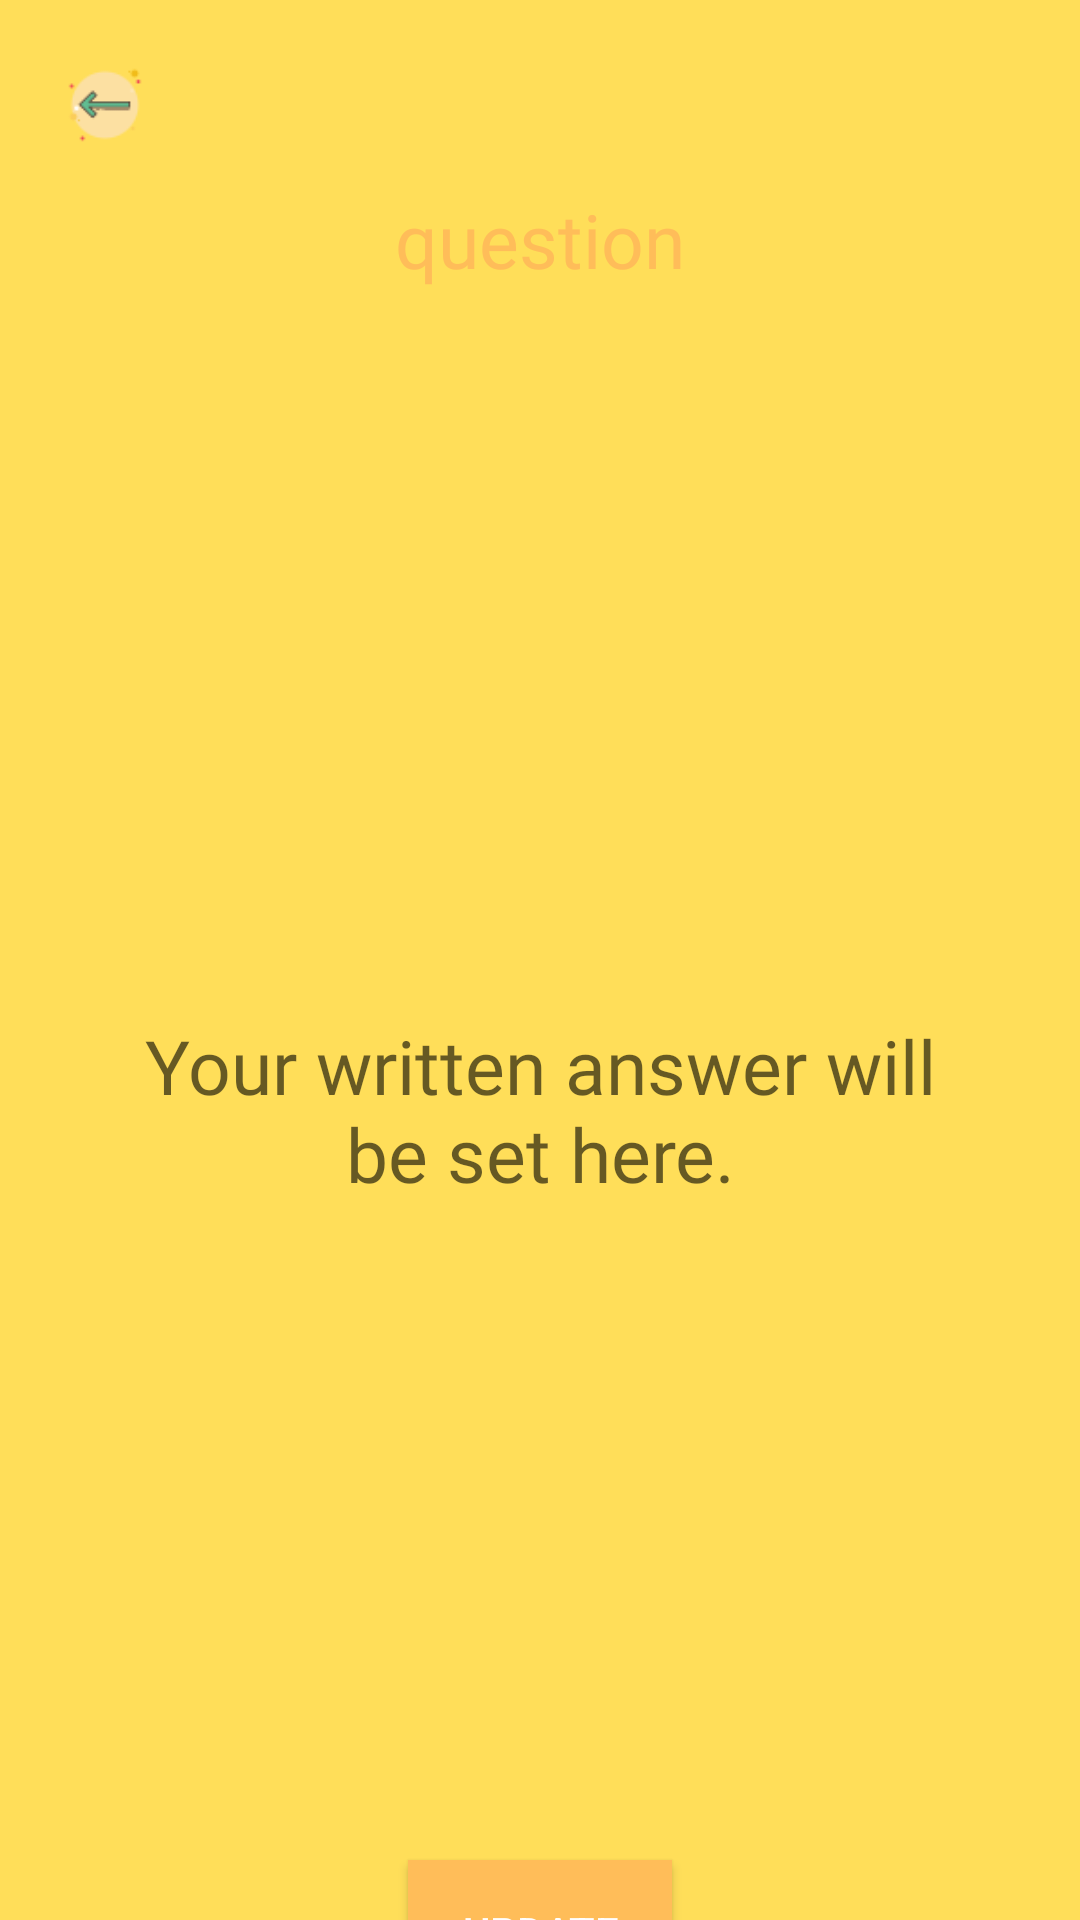

Icon bounding boxes for this 1080 × 1920 phone screenshot, format (x1, y1, x2, y2):
back: (69, 70, 141, 141)
